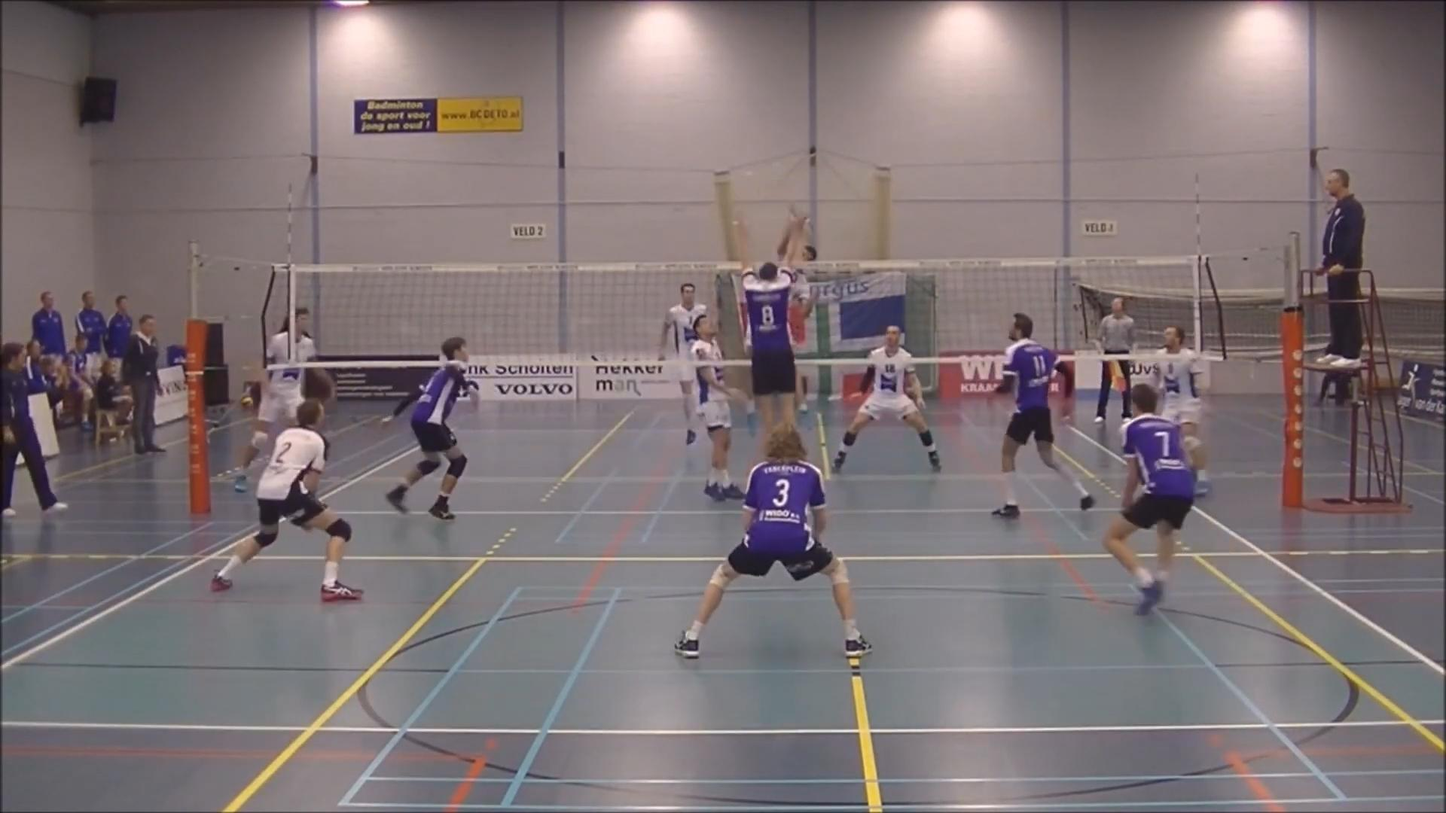Attack: (759, 202, 818, 318)
Block: (720, 232, 819, 490)
Player: (675, 423, 871, 658), (211, 399, 362, 601), (992, 313, 1094, 517), (1104, 385, 1194, 614), (222, 308, 315, 492), (386, 337, 475, 519), (833, 326, 941, 471), (690, 314, 744, 501), (1151, 326, 1210, 495), (658, 283, 706, 361)
